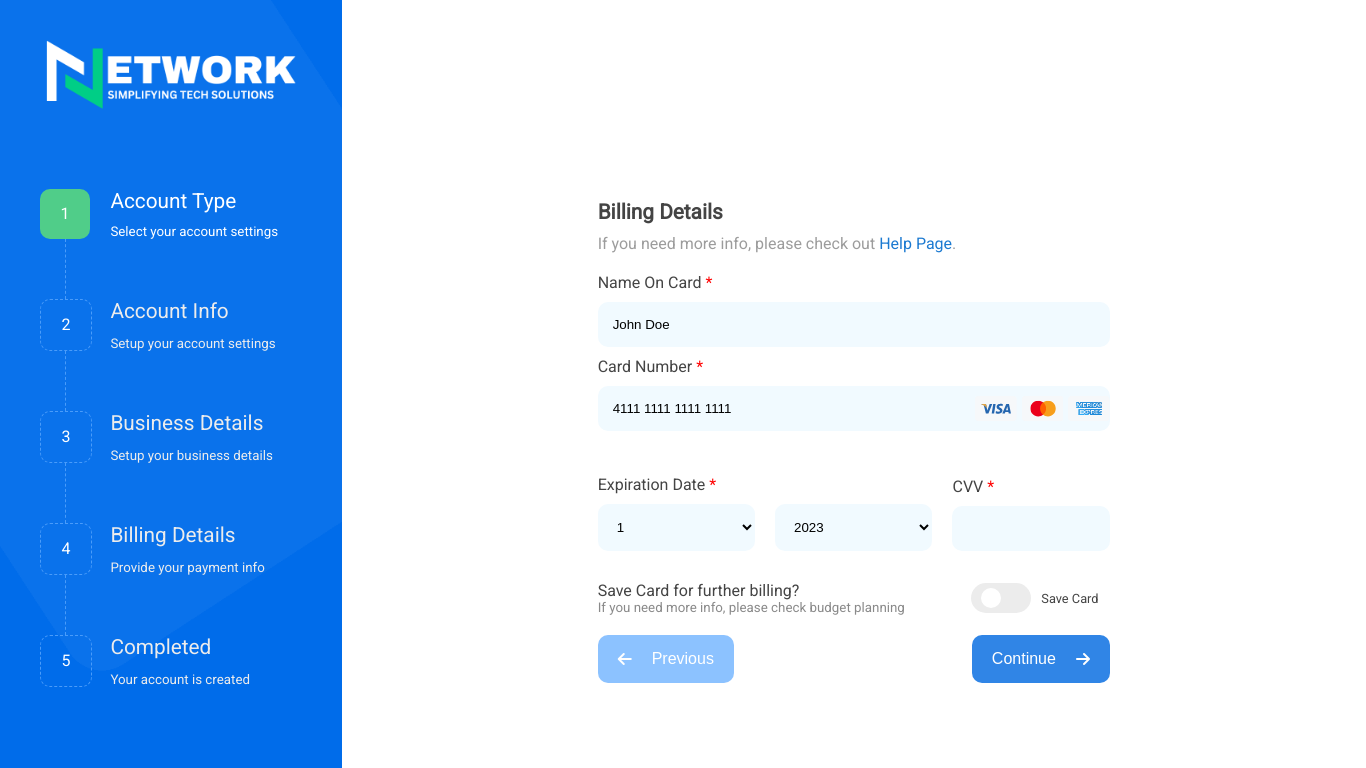
<BillingDetails /> › Should display an error if CVV is empty and I press 'Continue'
The width and height of the screenshot is (1366, 768).
Click the button with test id "actions-next-button".
click(1041, 659)  # box top-left (972, 635), bottom-right (1110, 683)
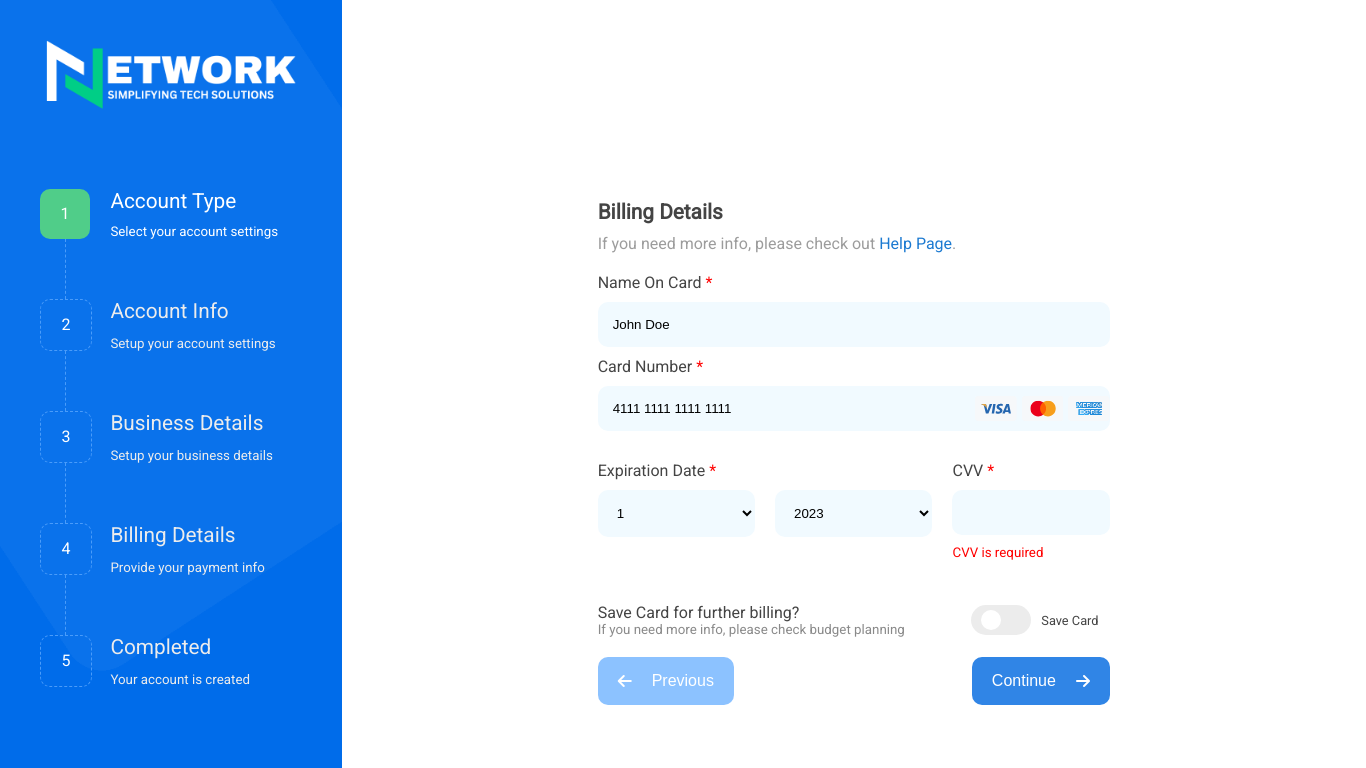
Expected: the button with test id "actions-next-button" is shown, top-left (972, 657), bottom-right (1110, 705)
Expected: the text "CVV is required" is shown, top-left (952, 545), bottom-right (1044, 560)
